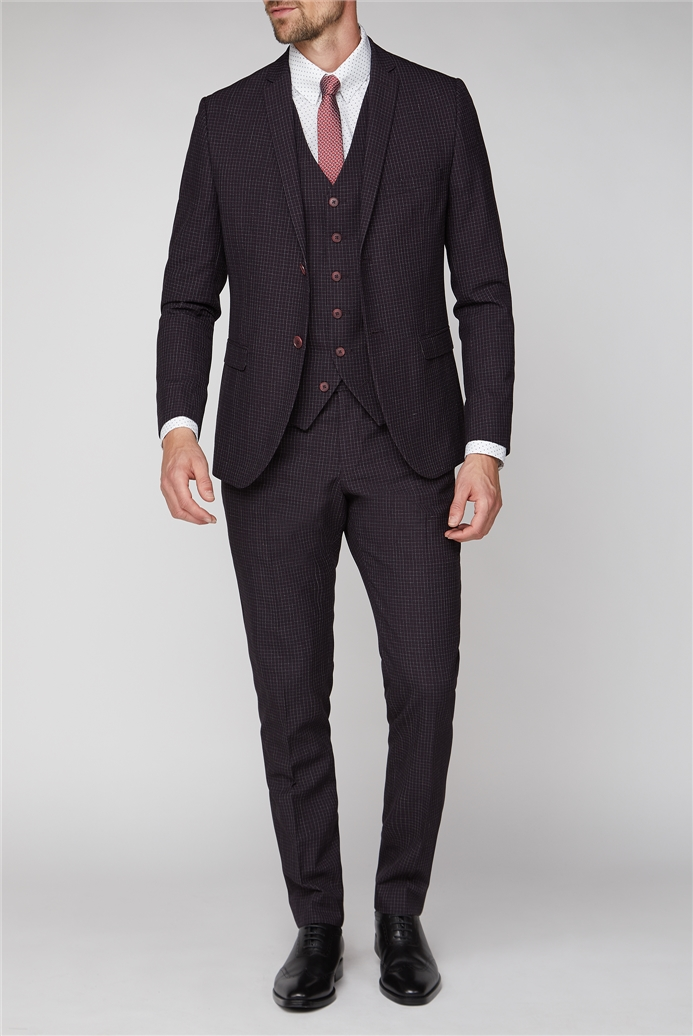F_M_suit jacket: (145, 64, 549, 475)
F_dress pants: (202, 424, 470, 944)
F_tie: (310, 73, 353, 179)
